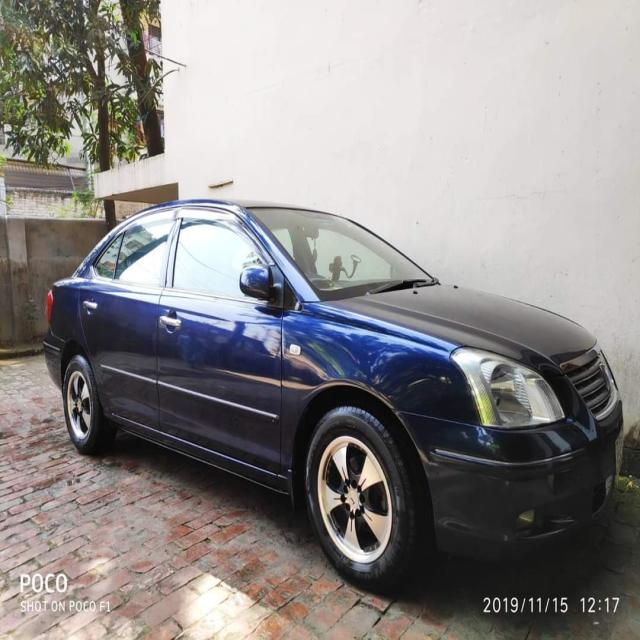blue: (42, 203, 625, 553)
